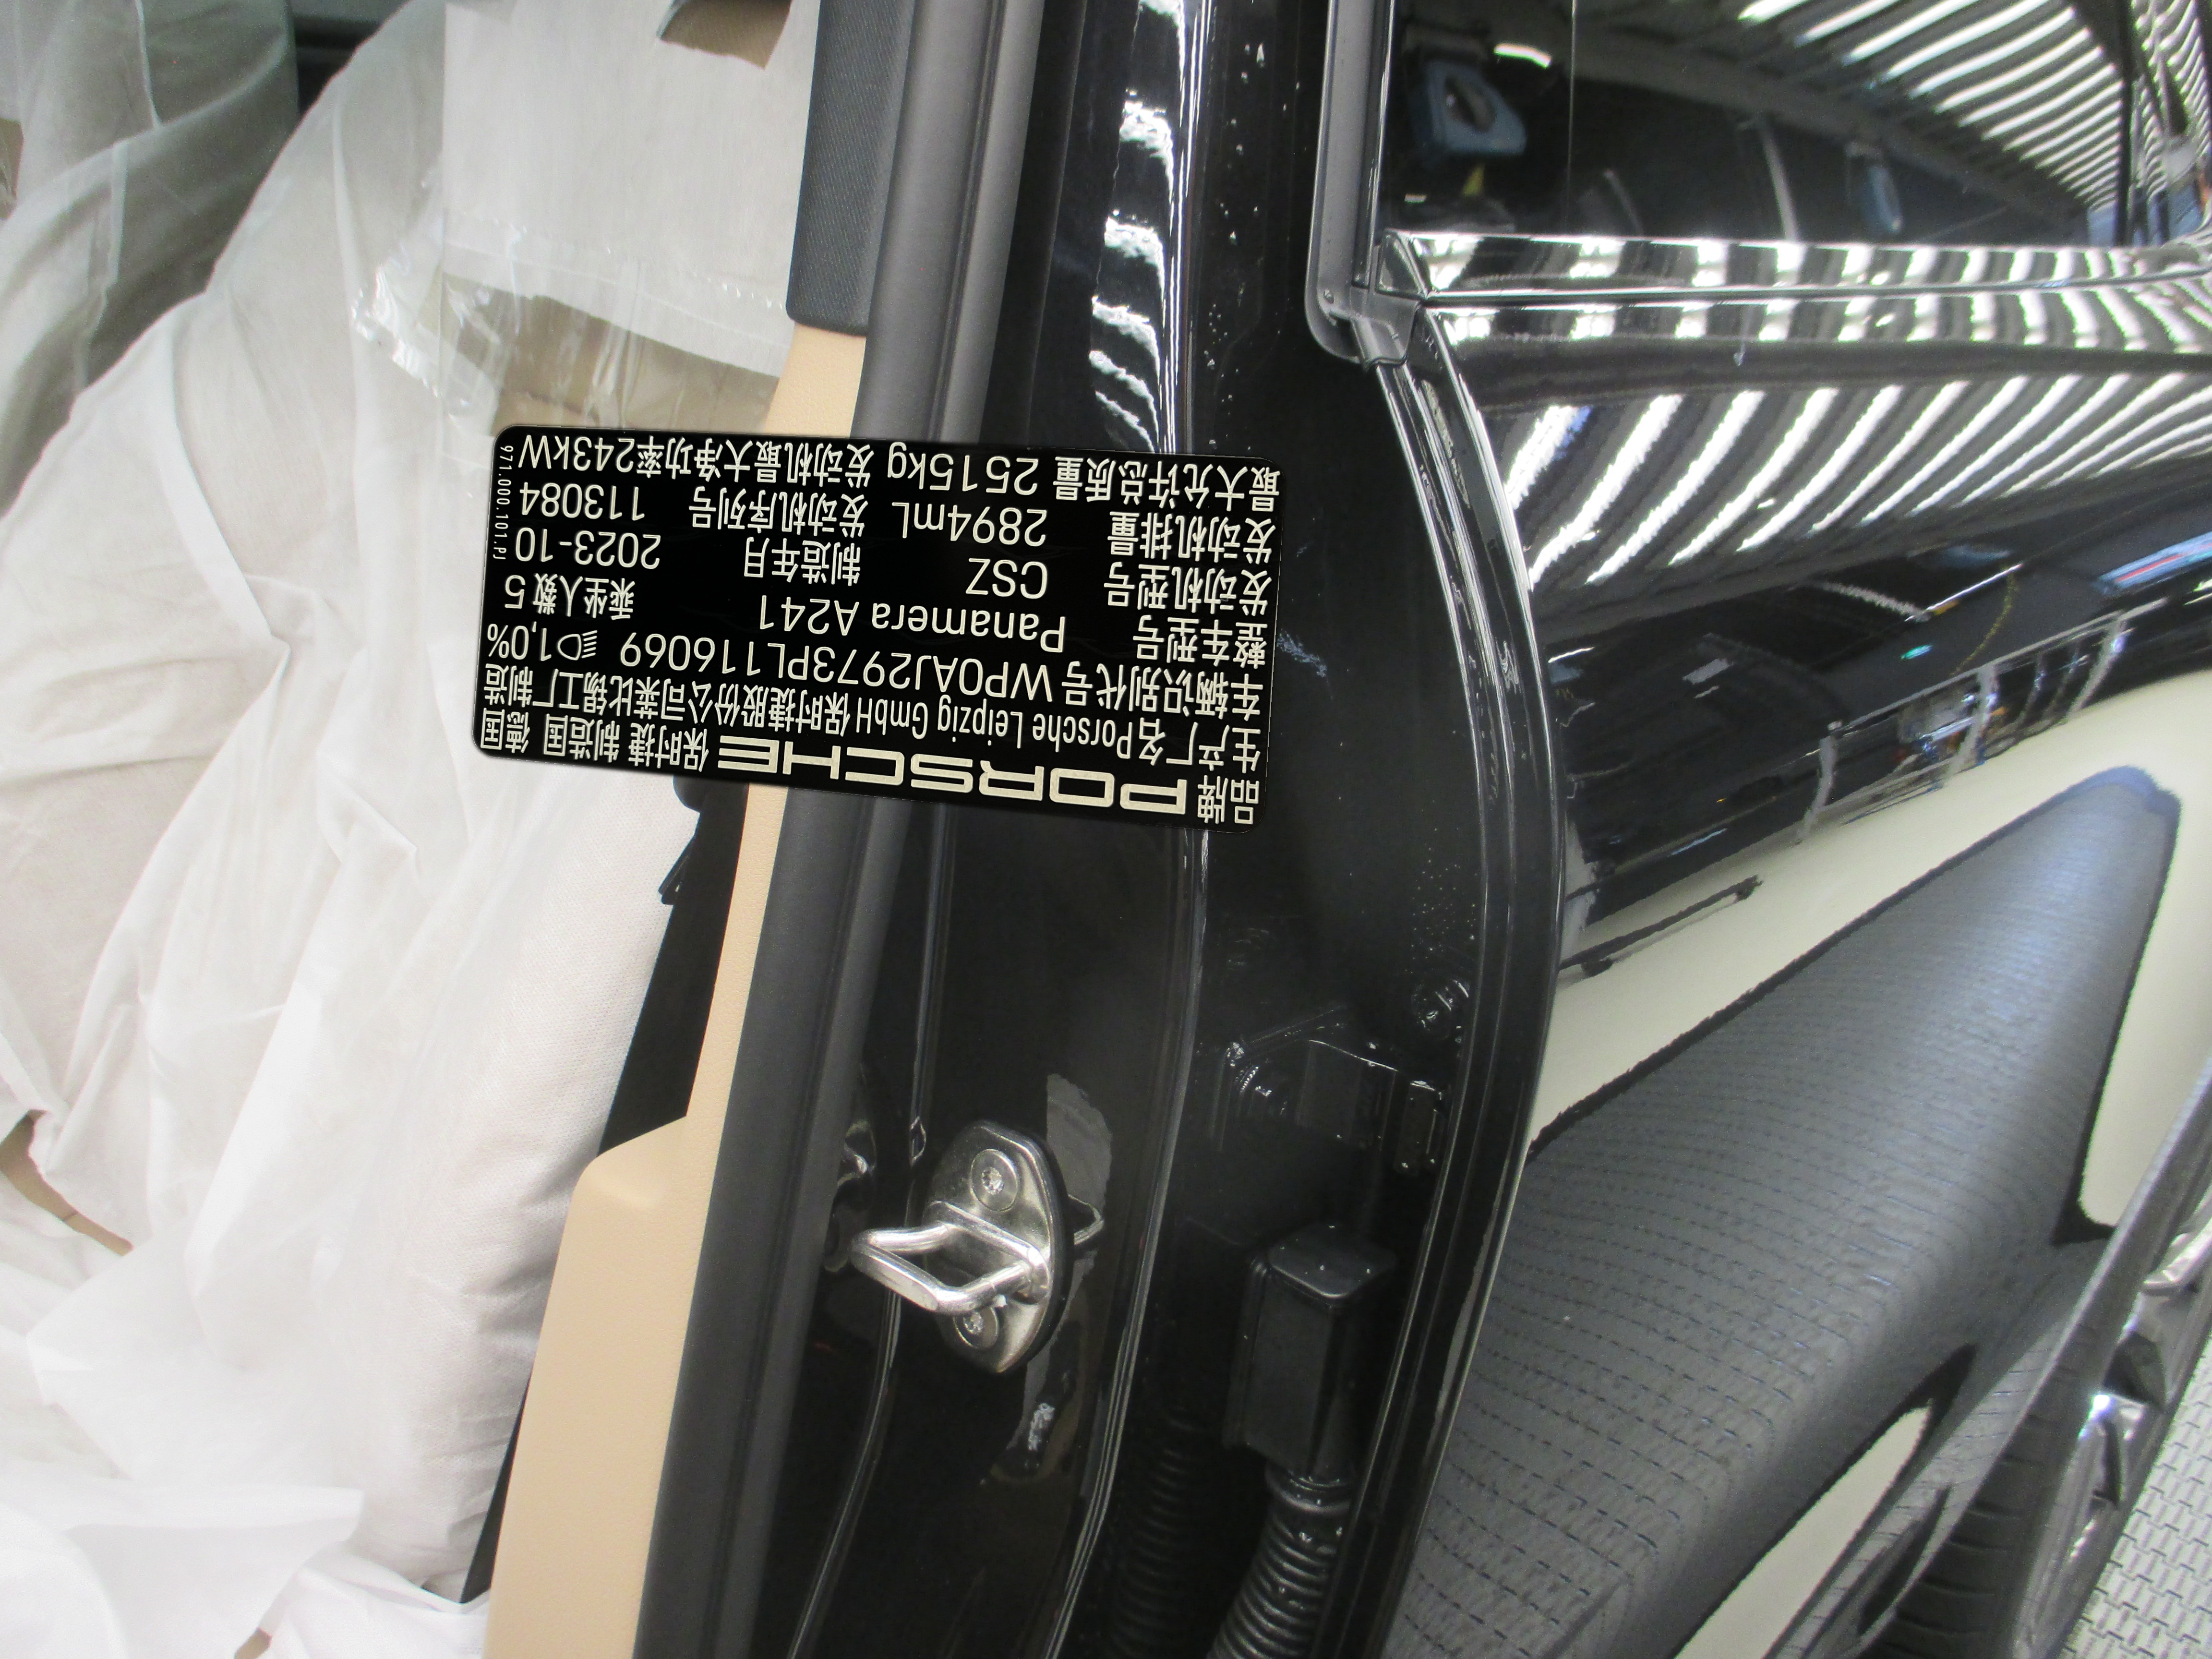Typlabel-China: (472, 425, 1285, 833)
